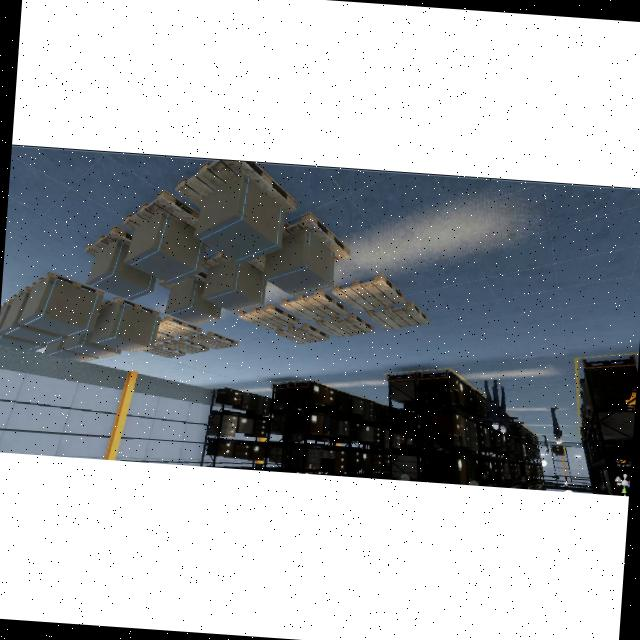wooden_pallet: (176, 159, 299, 215), (282, 211, 351, 260), (123, 188, 198, 231), (331, 273, 408, 311), (280, 287, 349, 320), (365, 300, 431, 331), (29, 271, 105, 295), (237, 305, 299, 332), (316, 313, 375, 340), (84, 225, 132, 258), (275, 322, 331, 345), (99, 295, 160, 315), (157, 315, 202, 338), (187, 331, 238, 349), (163, 337, 210, 354), (142, 343, 185, 359), (154, 331, 175, 344)
